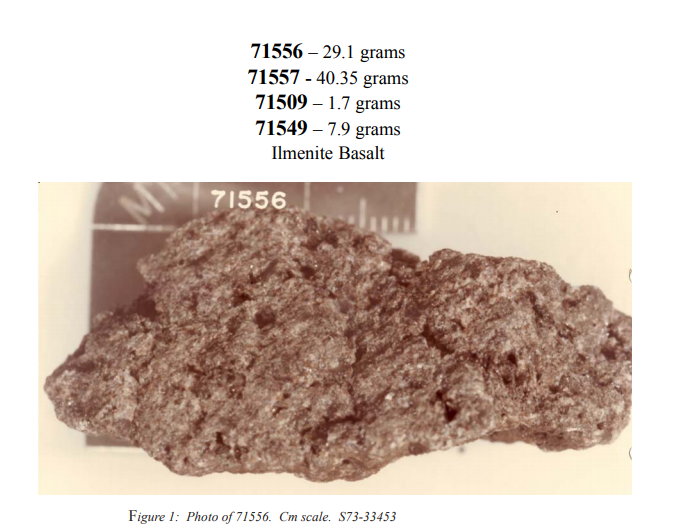Basalt: (72, 185, 639, 472)
